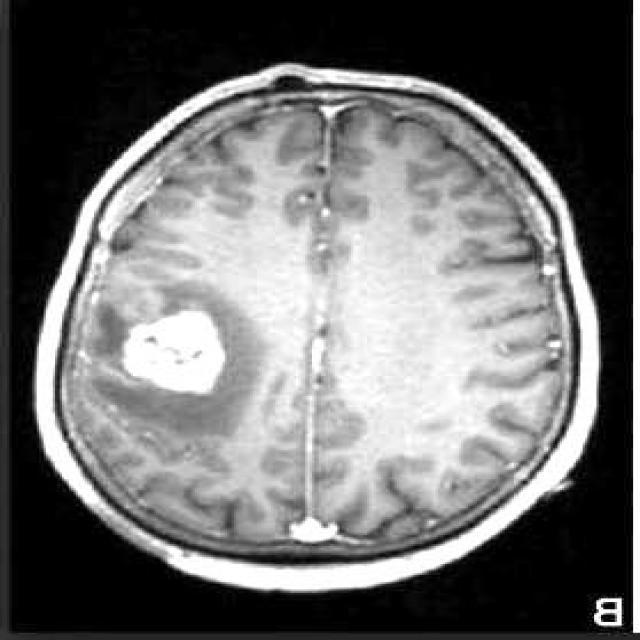tumor: (124, 309, 225, 396)
